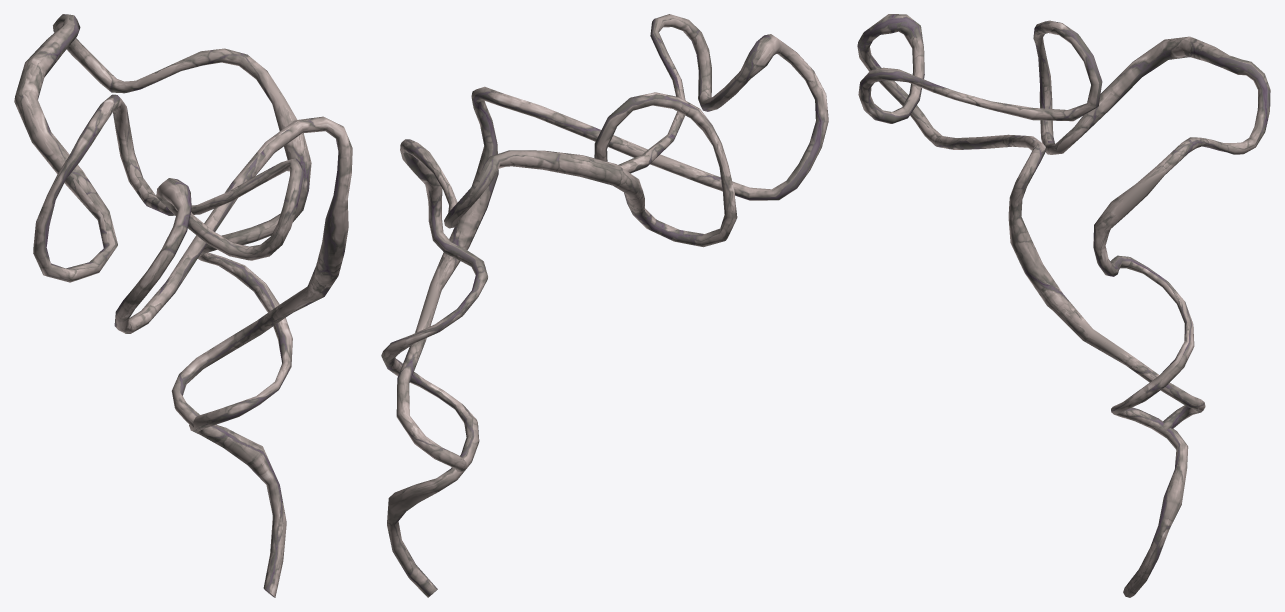
The model's file is wysteria_corner_01_SM.fbx.
3 renders of one model, left to right at view 1: azimuth 30°, elevation 25°; view 2: azimuth 150°, elevation 25°; view 3: azimuth 270°, elevation 25°, orthographic. The views are drawn at different scales.
Visible parts, largest first — view 1: wysteria_corner_01_SM_LOD0; view 2: wysteria_corner_01_SM_LOD0; view 3: wysteria_corner_01_SM_LOD0.
Boxes of the visible parts, x1,y1,x2,y2 form: wysteria_corner_01_SM_LOD0: (14,14,352,597); wysteria_corner_01_SM_LOD0: (381,14,828,597); wysteria_corner_01_SM_LOD0: (857,14,1270,597).
Bounding box in the file's own units: 256 × 338 × 441.
1 material, 1 textured.
